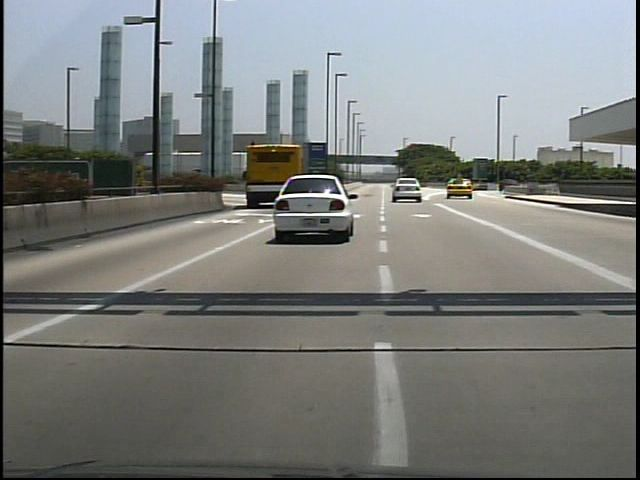car: (258, 174, 366, 247), (390, 176, 421, 203), (441, 174, 472, 201)
strada: (48, 238, 620, 455)
